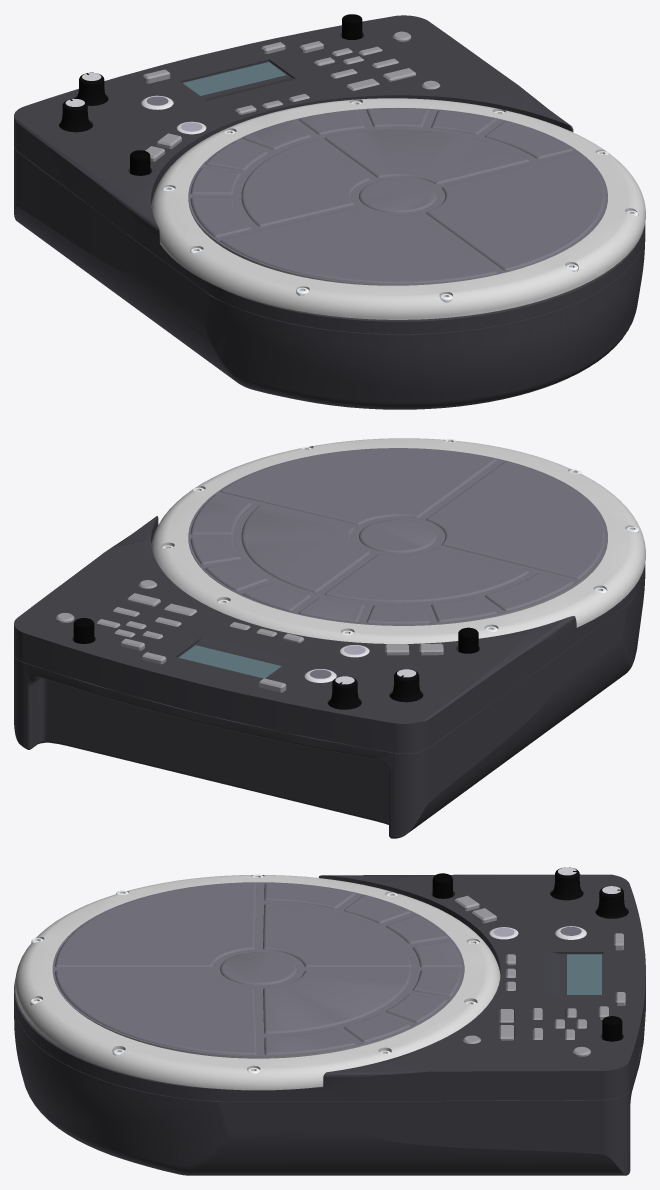
File: hpd20.glb
3 renders of one model, top to bottom at view 1: azimuth 30°, elevation 25°; view 2: azimuth 150°, elevation 25°; view 3: azimuth 270°, elevation 25°, orthographic.
Bounding box in the file's own units: 0.288 × 0.0891 × 0.3742.
8 materials, 1 textured.
